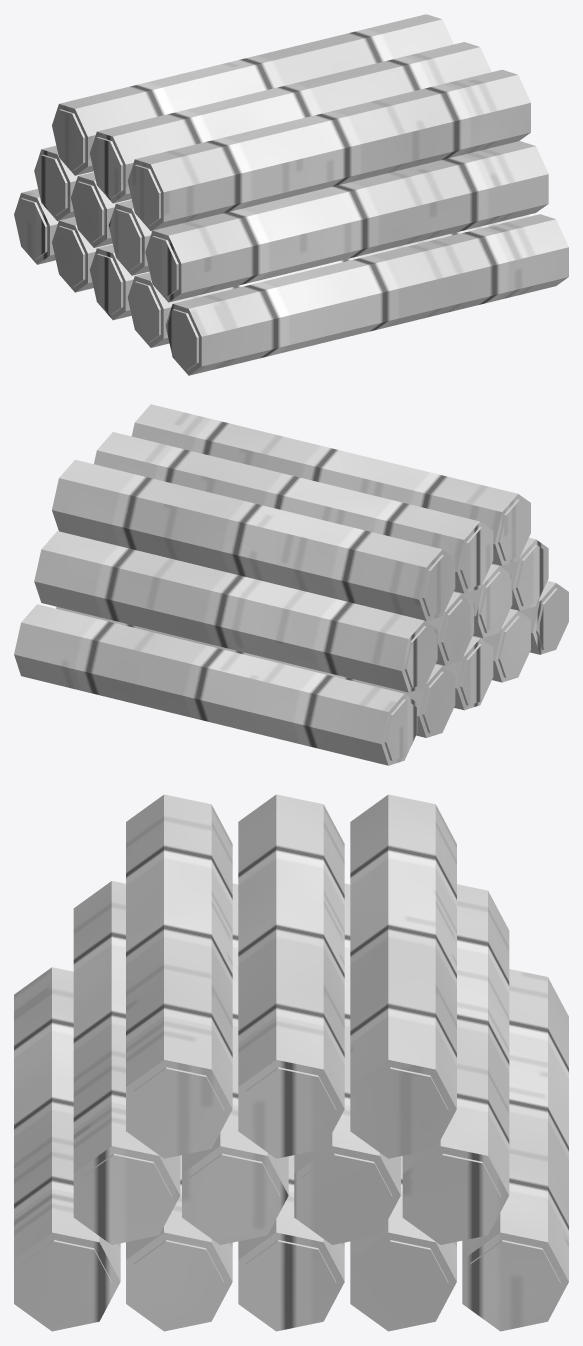
The model's file is item_wood.obj.
3 views of the same model, one above another, from view 1: azimuth 30°, elevation 25°; view 2: azimuth 150°, elevation 25°; view 3: azimuth 270°, elevation 25° (orthographic). The views are drawn at different scales.
Parts seen in each view (by area): view 1: item_wood; view 2: item_wood; view 3: item_wood.
Part boxes in pixels (<box>): item_wood: <box>14,14,568,375</box>; item_wood: <box>14,404,568,765</box>; item_wood: <box>14,794,568,1331</box>.
Size of the model in its own units: 0.85 by 0.4012 by 0.7426.
